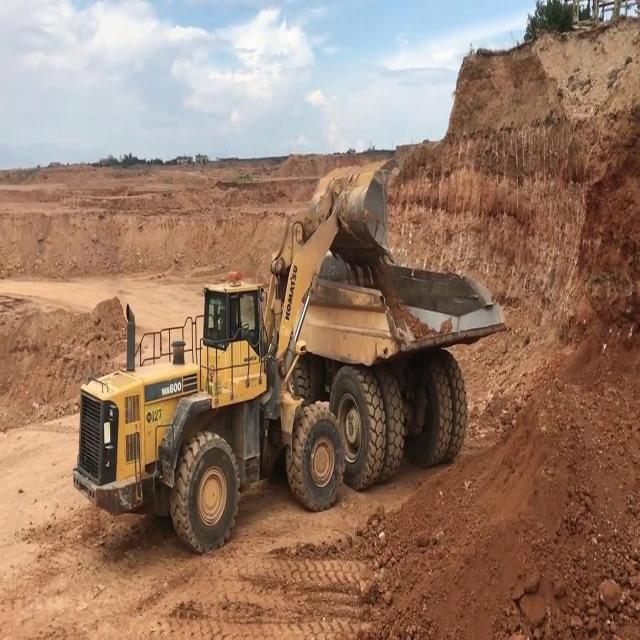Dump Truck: (278, 244, 510, 490)
Loader: (70, 156, 392, 556)
